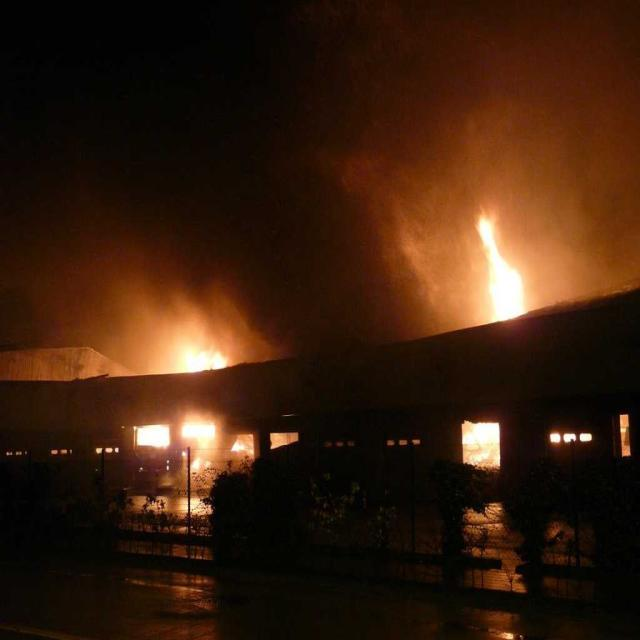Fire: (467, 420, 498, 470), (492, 272, 524, 316), (171, 346, 225, 368), (137, 426, 170, 448), (184, 424, 216, 444)
